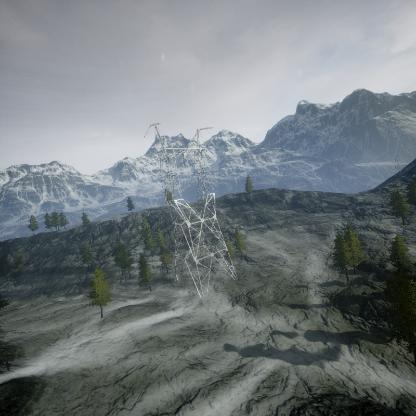tower: (143, 122, 240, 307)
